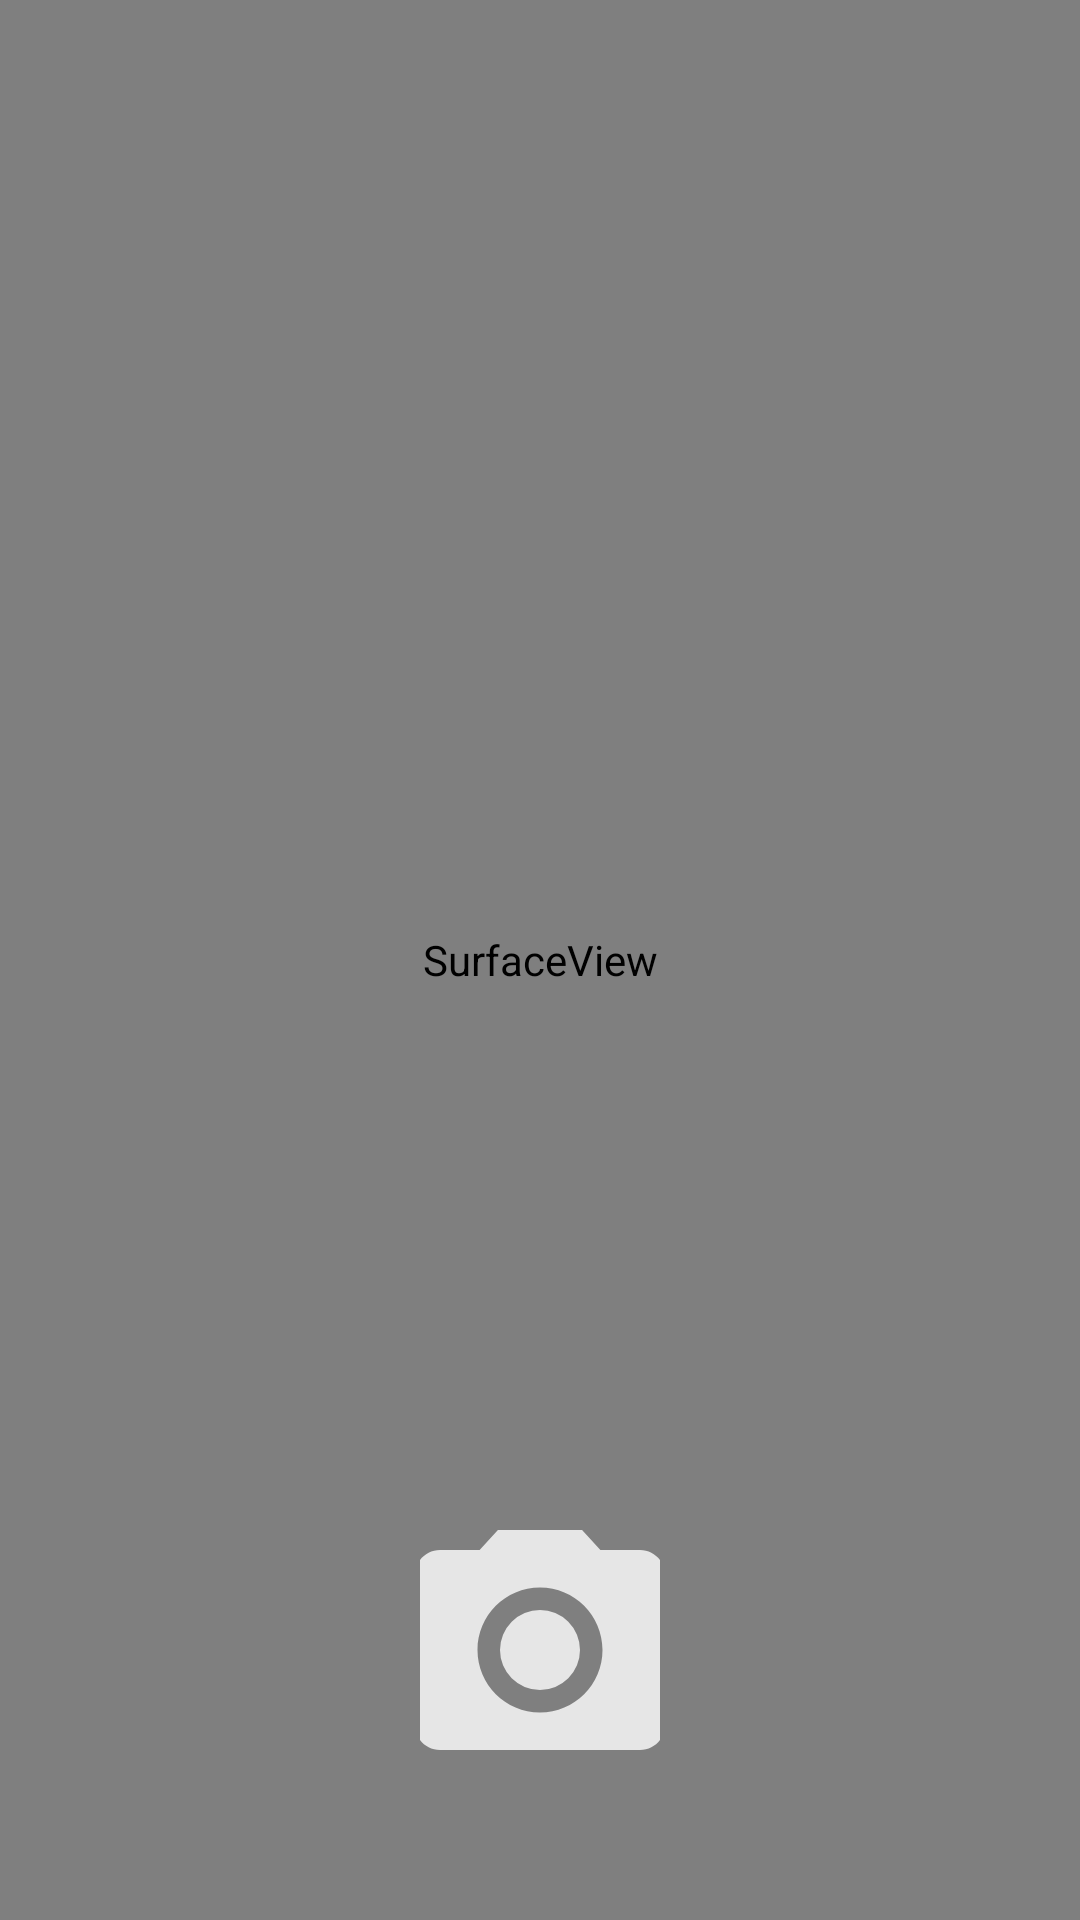

Where to tap for icons on this 1080w x 1920h app screen, as [x,y]:
camera: [540,1640]
